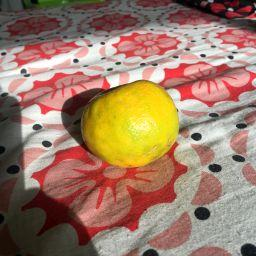Ripe: (80, 83, 180, 169)
